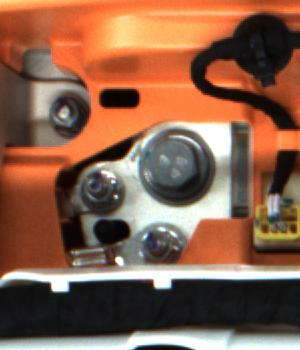screw_s: (74, 164, 127, 211), (42, 88, 89, 136), (138, 228, 182, 265)
